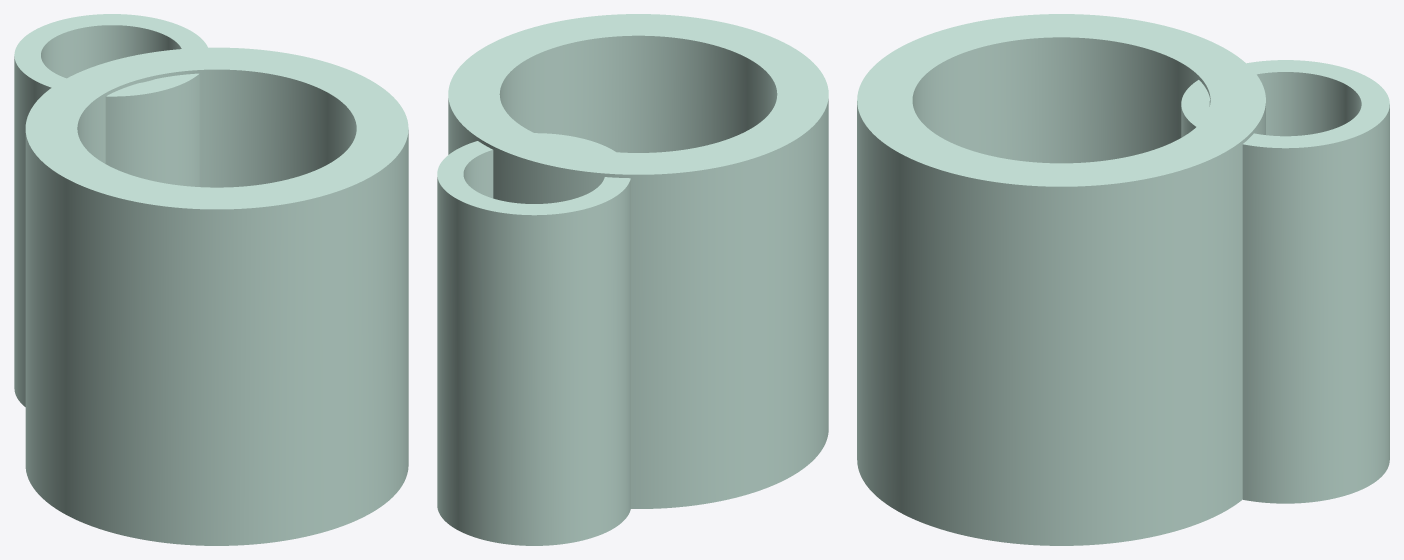
3 views of the same model, side by side, from view 1: azimuth 30°, elevation 25°; view 2: azimuth 150°, elevation 25°; view 3: azimuth 270°, elevation 25° (orthographic). The views are drawn at different scales.
Visible parts, largest first — view 1: Renderer Node; view 2: Renderer Node; view 3: Renderer Node.
Boxes of the visible parts, bbox=[...] form: Renderer Node: bbox=[14, 14, 408, 545]; Renderer Node: bbox=[437, 14, 828, 545]; Renderer Node: bbox=[857, 14, 1389, 545].
Bounding box in the file's own units: 0.7737 × 0.75 × 1.01.
